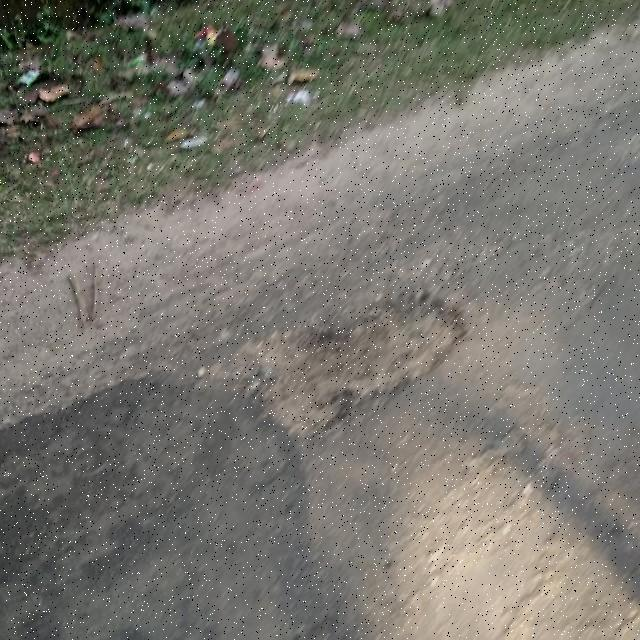Pothole: (198, 297, 465, 438)
